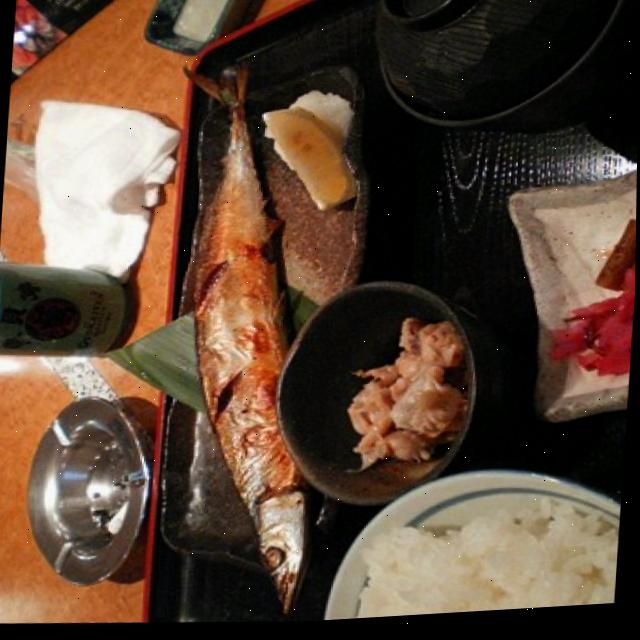熟制海鲜: (174, 0, 340, 632)
